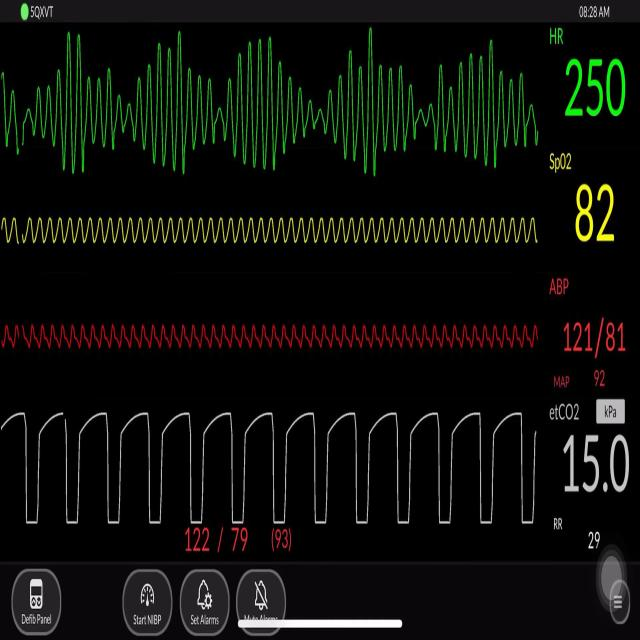danger: (6, 38, 533, 182)
